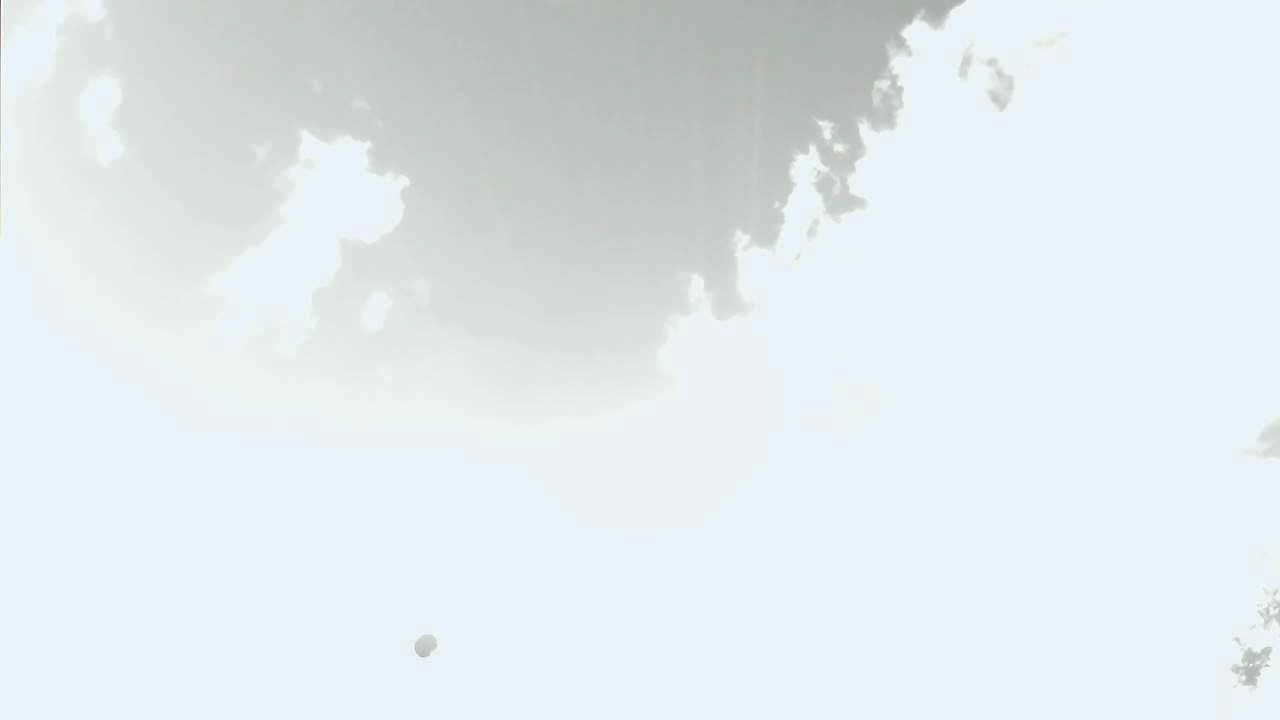Football-Spotter: (414, 634, 437, 657)
